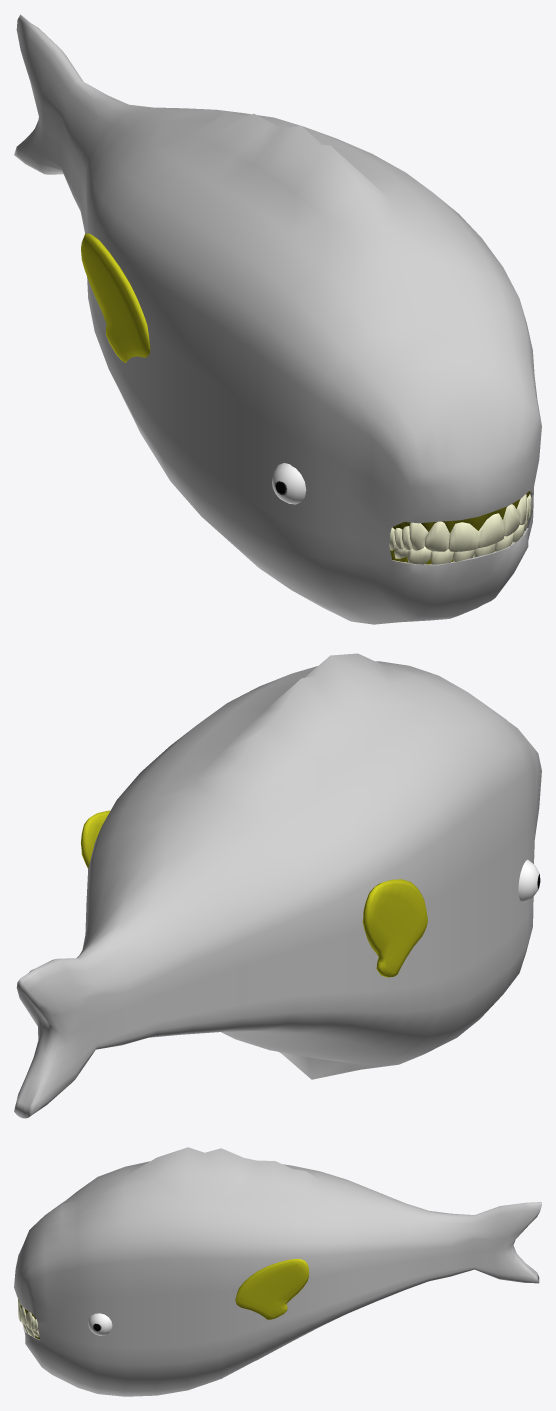
Rendered from GerberFish_FBX_V2.fbx.
3 renders of one model, top to bottom at view 1: azimuth 30°, elevation 25°; view 2: azimuth 150°, elevation 25°; view 3: azimuth 270°, elevation 25°, orthographic. The views are drawn at different scales.
Parts seen in each view (by area): view 1: GerberFish_Body, GerberFish_RightFin, GerberFish_TopTeeth, GerberFish_BottomTeeth, GerberFish_RightEye; view 2: GerberFish_Body, GerberFish_RightFin, GerberFish_LeftFin, GerberFish_RightEye; view 3: GerberFish_Body, GerberFish_LeftFin, GerberFish_LeftEye, GerberFish_TopTeeth.
Part boxes in pixels (box(x1,y1,x2,y2)): GerberFish_Body: box(14, 14, 541, 624); GerberFish_RightFin: box(81, 233, 150, 362); GerberFish_TopTeeth: box(389, 491, 531, 551); GerberFish_BottomTeeth: box(390, 521, 527, 564); GerberFish_RightEye: box(272, 463, 306, 504); GerberFish_Body: box(14, 653, 541, 1118); GerberFish_RightFin: box(362, 879, 427, 977); GerberFish_LeftFin: box(81, 810, 110, 868); GerberFish_RightEye: box(518, 859, 540, 902); GerberFish_Body: box(14, 1147, 541, 1396); GerberFish_LeftFin: box(235, 1258, 309, 1319); GerberFish_LeftEye: box(88, 1313, 112, 1335); GerberFish_TopTeeth: box(18, 1299, 38, 1332).
Bounding box in the file's own units: 49.22 × 66.6 × 135.
